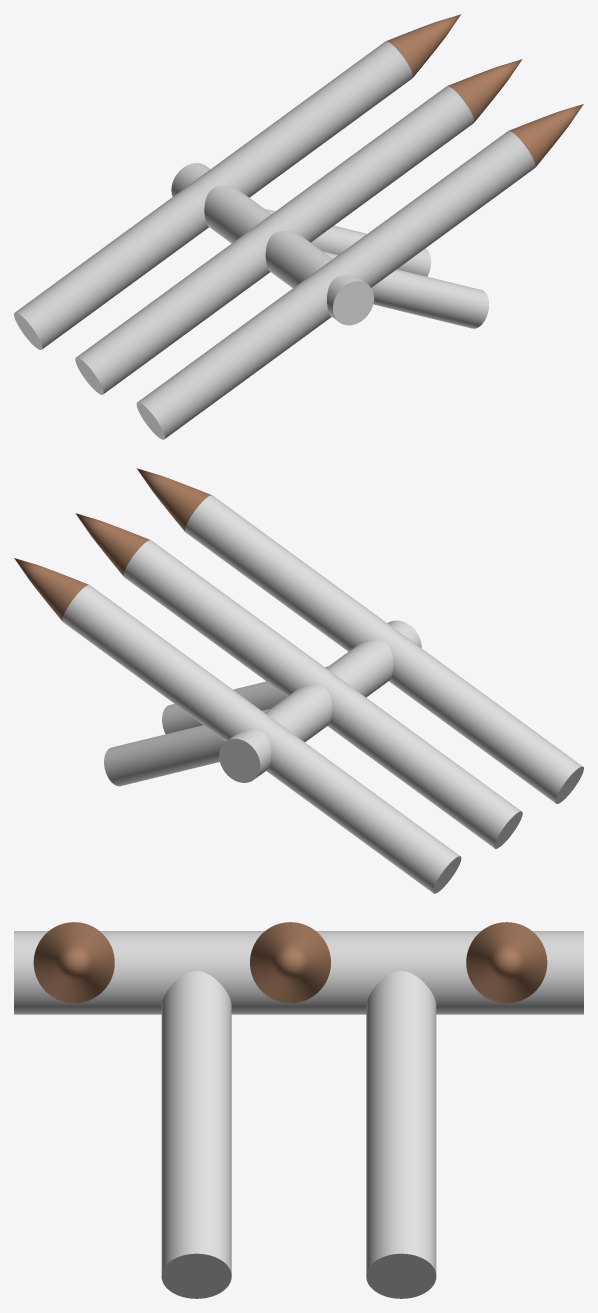
Rendered from Wood Barricade.fbx.
3 renders of one model, top to bottom at view 1: azimuth 30°, elevation 25°; view 2: azimuth 150°, elevation 25°; view 3: azimuth 270°, elevation 25°, orthographic. The views are drawn at different scales.
Visible parts, largest first — view 1: Cone.011, Cone.002, Cone.014, Cone.017, Cone.023, Cone.007, Cone.003, Cone.015, Cone.020, Cone.018; view 2: Cone.011, Cone.014, Cone.002, Cone.017, Cone.020, Cone.007, Cone.015, Cone.003, Cone.023, Cone.016; view 3: Cone.017, Cone.020, Cone.023, Cone.003, Cone.015, Cone.007, Cone.021, Cone.022.
Part boxes in pixels (x1,y1,x2,y2): Cone.011: [77, 86, 474, 393]; Cone.002: [15, 41, 412, 349]; Cone.014: [138, 131, 535, 438]; Cone.017: [171, 163, 365, 320]; Cone.023: [323, 251, 488, 328]; Cone.007: [448, 59, 522, 122]; Cone.003: [386, 14, 460, 77]; Cone.015: [509, 104, 583, 167]; Cone.020: [265, 209, 430, 276]; Cone.018: [333, 281, 373, 325]; Cone.011: [123, 540, 520, 847]; Cone.014: [185, 495, 582, 803]; Cone.002: [62, 585, 459, 892]; Cone.017: [227, 620, 421, 778]; Cone.020: [104, 708, 270, 786]; Cone.007: [75, 513, 149, 576]; Cone.015: [137, 468, 211, 531]; Cone.003: [14, 558, 88, 621]; Cone.023: [162, 666, 327, 733]; Cone.016: [219, 738, 260, 782]; Cone.017: [14, 931, 583, 1014]; Cone.020: [366, 971, 436, 1273]; Cone.023: [161, 971, 231, 1273]; Cone.003: [466, 922, 547, 1003]; Cone.015: [33, 922, 114, 1003]; Cone.007: [250, 922, 330, 1003]; Cone.021: [366, 1253, 436, 1298]; Cone.022: [161, 1253, 231, 1298].
Size of the model in its own units: 403 by 201 by 255.
